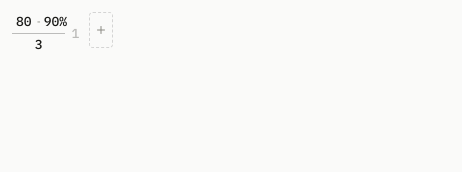
Test case: Alt+click cycles the unit › refuses to shed an interval upper bound, and writes nothing
This screenshot has width=462, height=172.
Step 1. Press the mouse on the button "80" → (24, 22), box [12,12,36,32]
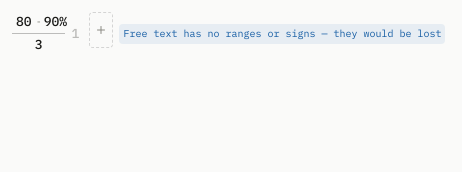
Result: the text "Free text has no ranges or signs — they would be lost" is shown at [119,24,445,44]
